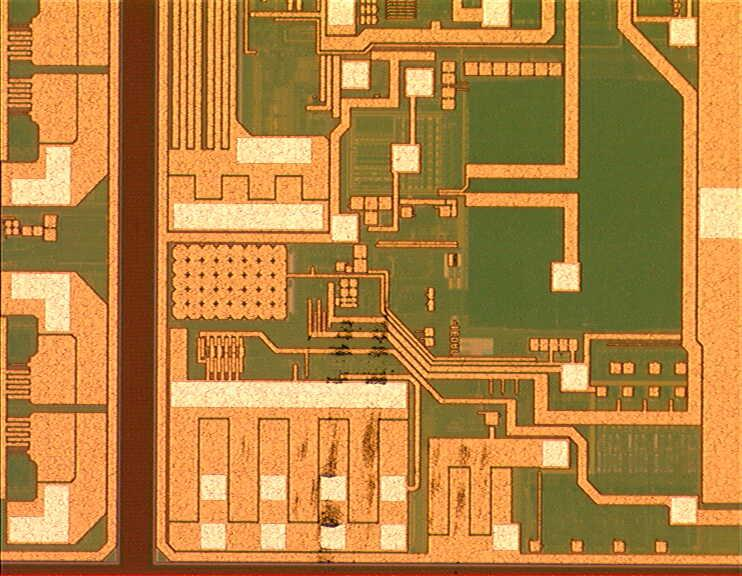SCRATCH: (230, 305, 498, 573)
